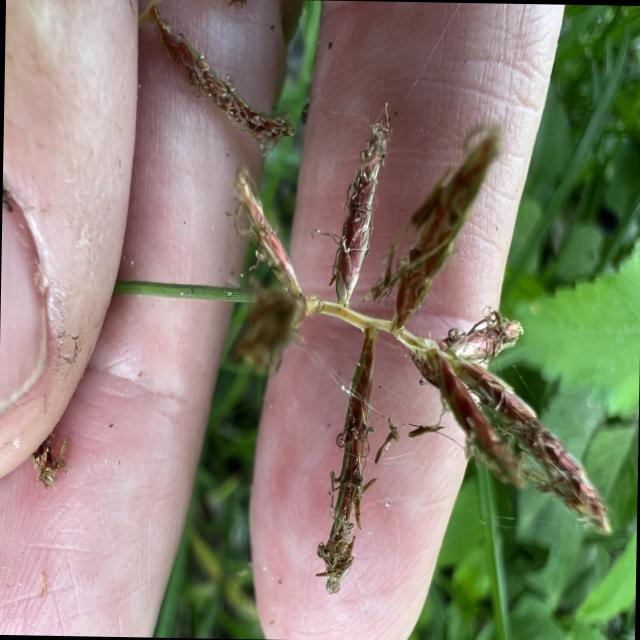cyperus: (178, 98, 616, 589)
